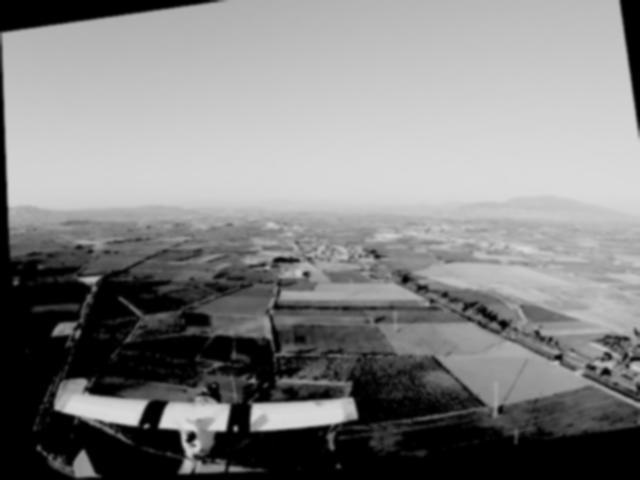hedef: (31, 330, 373, 479)
